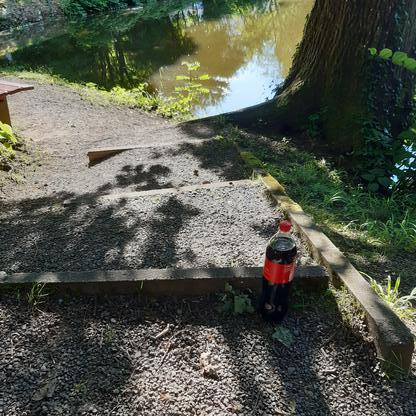coca-cola: (259, 218, 299, 327)
